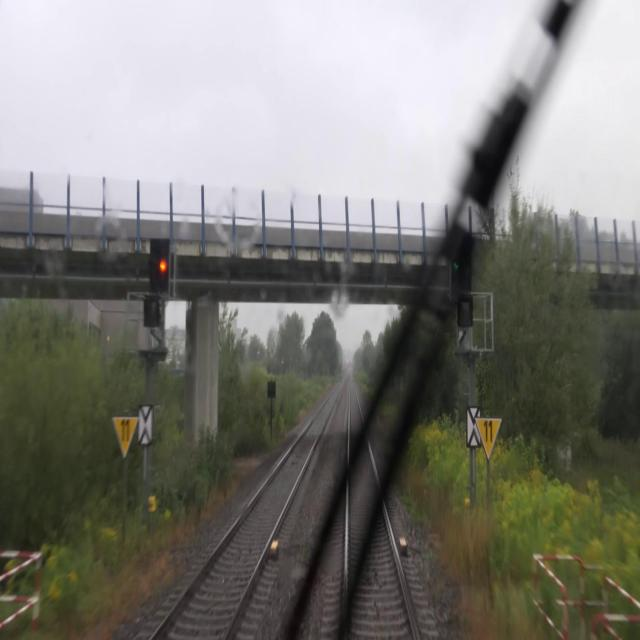rail-track: (155, 391, 335, 639), (347, 384, 415, 639)
